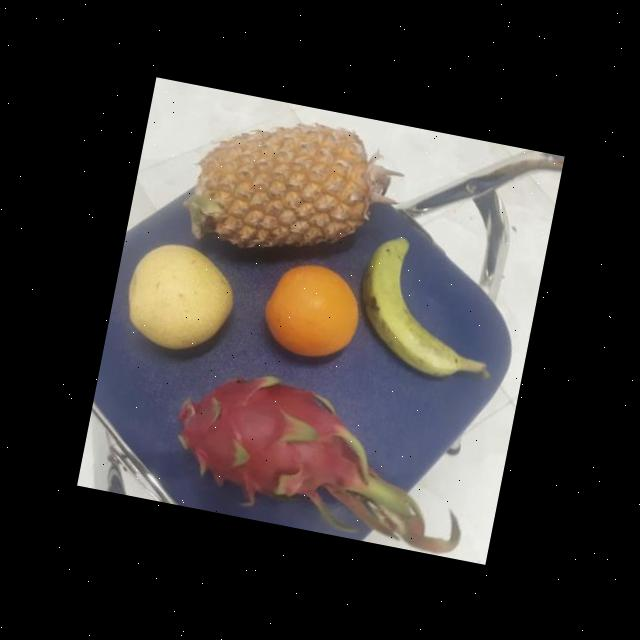banana: (341, 232, 487, 380)
pear: (112, 236, 242, 360), (253, 254, 370, 364)
pineapple: (176, 103, 380, 272)
pitaya: (151, 356, 377, 517)
